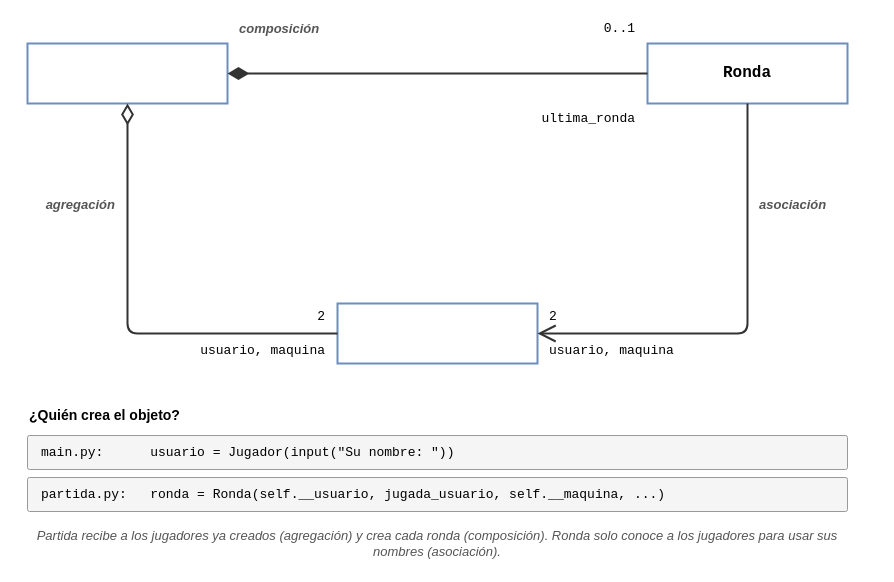
Image size: 894x582. Some labels were removed from this diagram. Each missing label, with the centre of its shape:
"Jugador" goes at (437,333).
"Partida" goes at (127,73).
